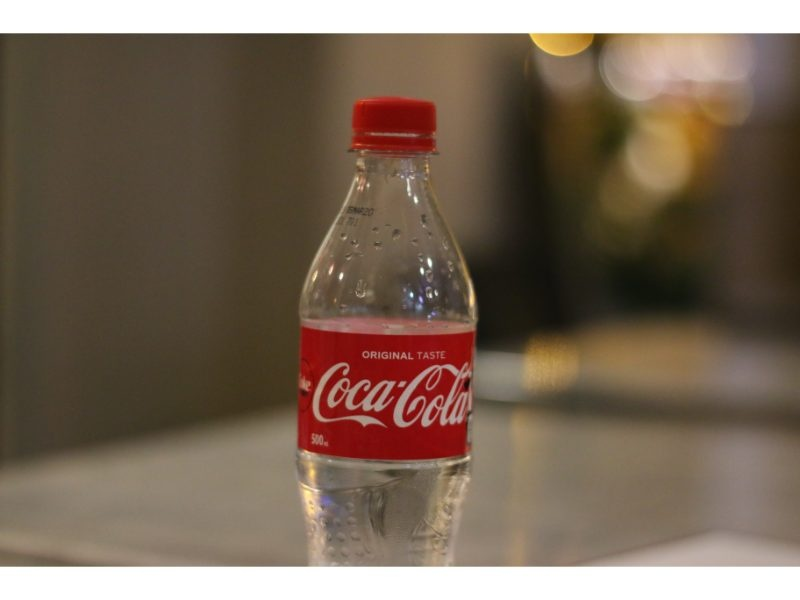PET #1: (287, 93, 472, 573)
